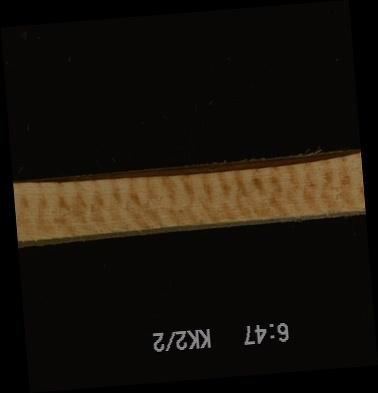wave: (12, 155, 360, 183)
